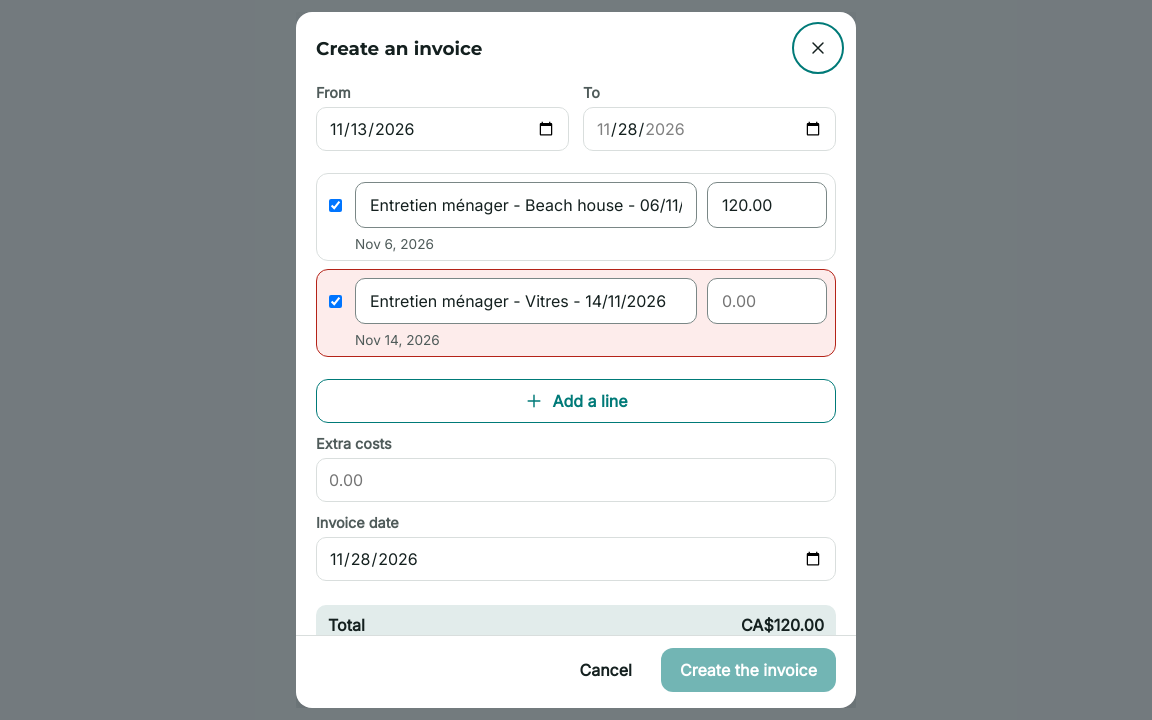
Test: BillDialog › explains a cleaning that was billed meanwhile and asks for the list again
Type "120" into the field named "Amount" at (767, 301), box [707,278,827,324]
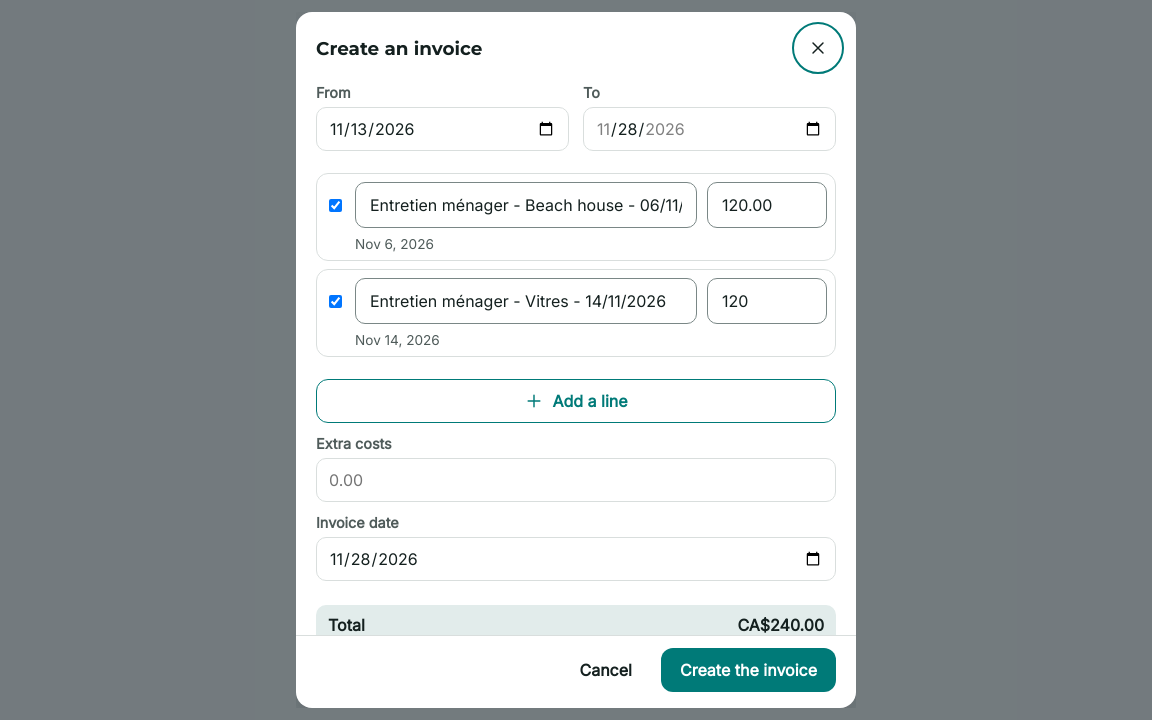
Click the button "Create the invoice" at (748, 670), box [661,648,836,692]
(page scrolled)
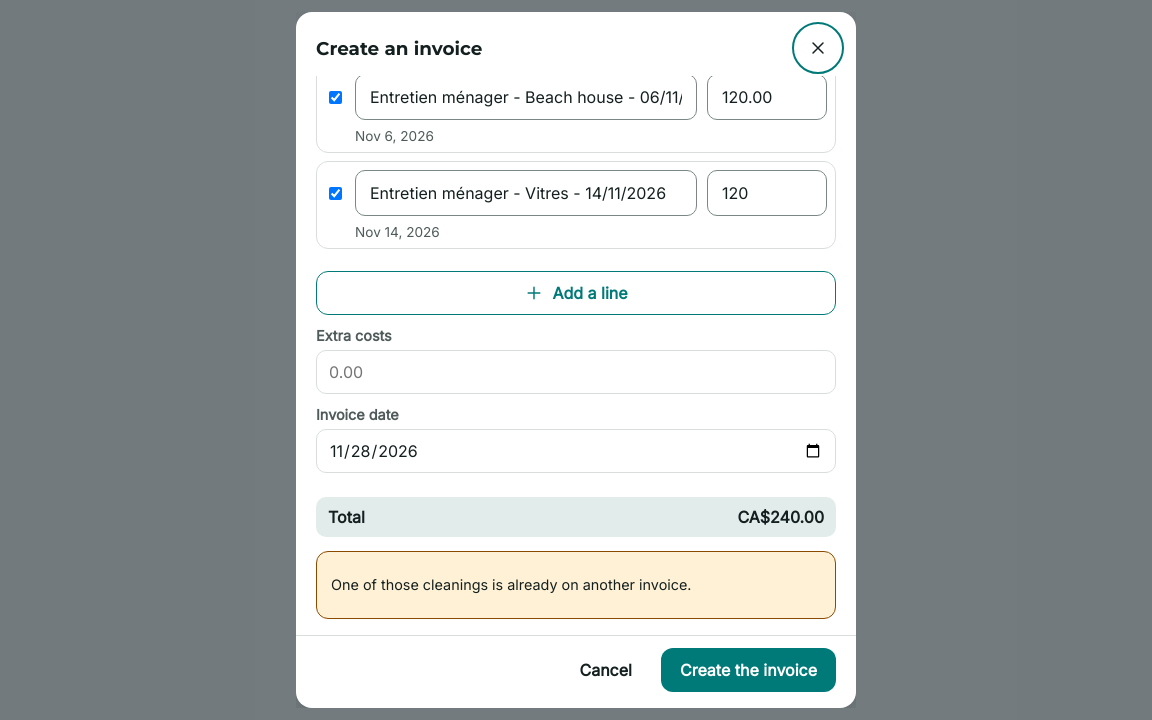
Check: the message shows "already on another invoice", box [331,576,692,593]
